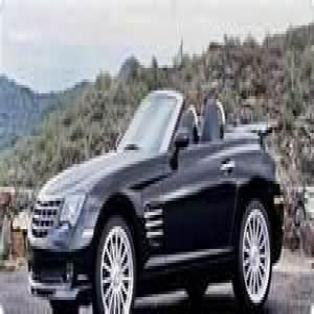Auto: (26, 82, 283, 311)
